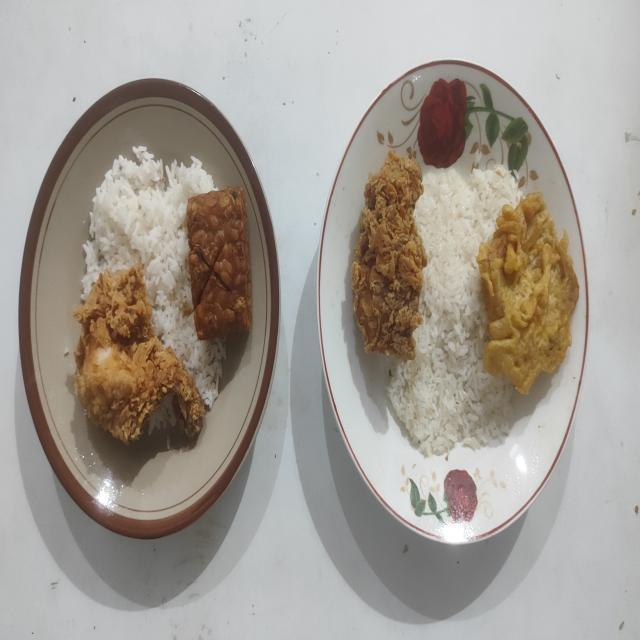nasi_putih: (81, 145, 226, 407), (388, 170, 520, 456)
tempe_goreng: (186, 187, 252, 340)
